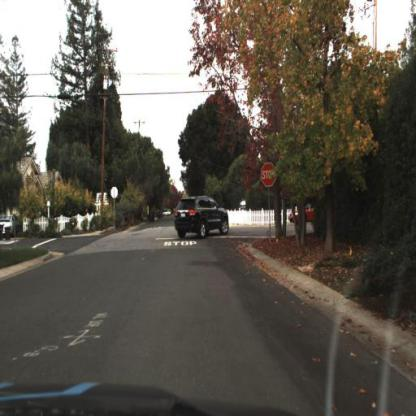car: (174, 189, 234, 242), (288, 197, 320, 231), (162, 208, 171, 220), (167, 208, 174, 219)
